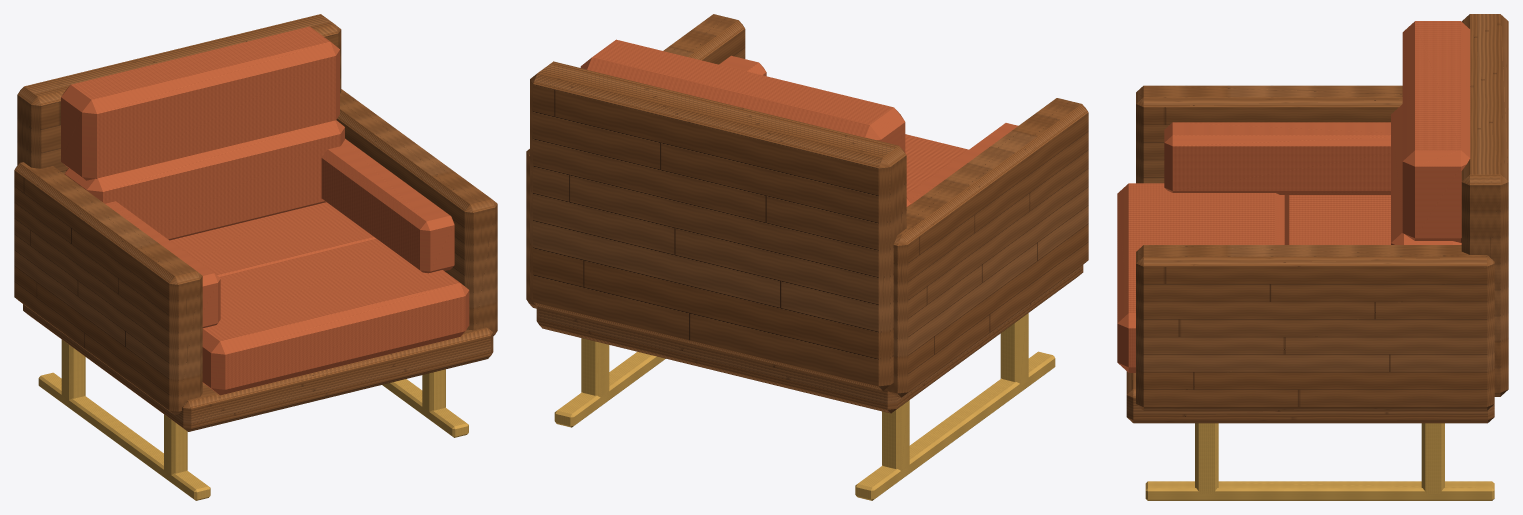
File: lounge_chair.glb
3 views of the same model, side by side, from view 1: azimuth 30°, elevation 25°; view 2: azimuth 150°, elevation 25°; view 3: azimuth 270°, elevation 25° (orthographic). The views are drawn at different scales.
Parts seen in each view (by area): view 1: Chair_TuftedTerracottaCushions, Chair_MoldedWoodShell, Chair_BrassFrameBase; view 2: Chair_MoldedWoodShell, Chair_TuftedTerracottaCushions, Chair_BrassFrameBase; view 3: Chair_MoldedWoodShell, Chair_TuftedTerracottaCushions, Chair_BrassFrameBase.
Part boxes in pixels (left/top/right/bottom): Chair_TuftedTerracottaCushions: left=61, top=26, right=469, bottom=395; Chair_MoldedWoodShell: left=14, top=14, right=497, bottom=431; Chair_BrassFrameBase: left=38, top=339, right=468, bottom=500; Chair_MoldedWoodShell: left=526, top=14, right=1088, bottom=413; Chair_TuftedTerracottaCushions: left=580, top=39, right=1018, bottom=207; Chair_BrassFrameBase: left=554, top=313, right=1055, bottom=500; Chair_MoldedWoodShell: left=1126, top=14, right=1508, bottom=423; Chair_TuftedTerracottaCushions: left=1117, top=21, right=1470, bottom=372; Chair_BrassFrameBase: left=1145, top=423, right=1494, bottom=500.
Size of the model in its own units: 0.89 by 0.8 by 0.83.
Materials: 3 (3 with a texture image).
